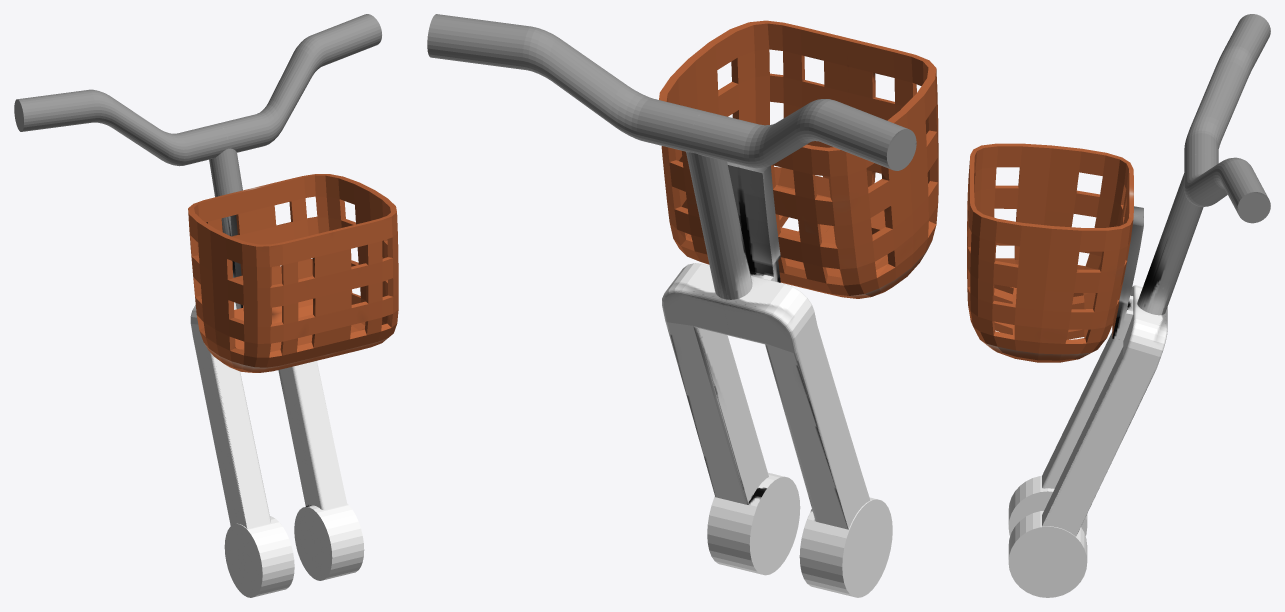
The model's file is Handle.fbx.
3 views of the same model, side by side, from view 1: azimuth 30°, elevation 25°; view 2: azimuth 150°, elevation 25°; view 3: azimuth 270°, elevation 25° (orthographic). The views are drawn at different scales.
Parts seen in each view (by area): view 1: fork; view 2: fork; view 3: fork.
Boxes of the visible parts, bbox=[...] form: fork: bbox=[14, 14, 398, 597]; fork: bbox=[427, 14, 938, 597]; fork: bbox=[967, 14, 1270, 597].
Size of the model in its own units: 6.76 by 8.16 by 4.79.
